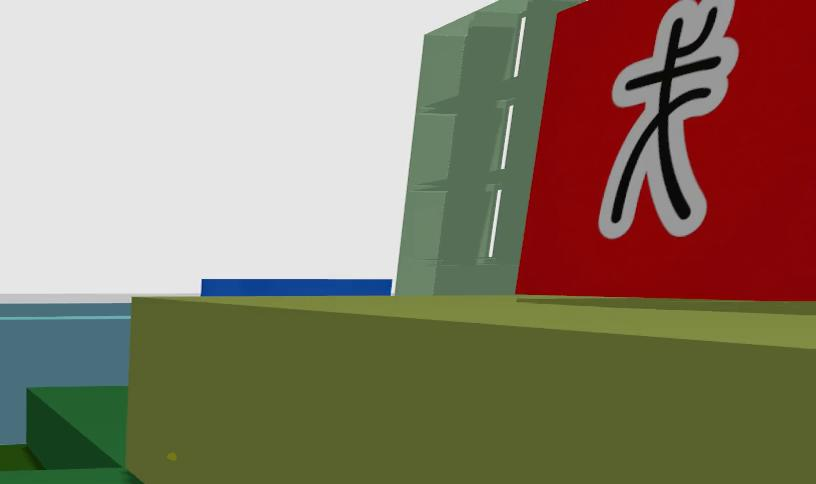KFS_FAKE: (516, 0, 815, 299), (597, 0, 738, 238)
